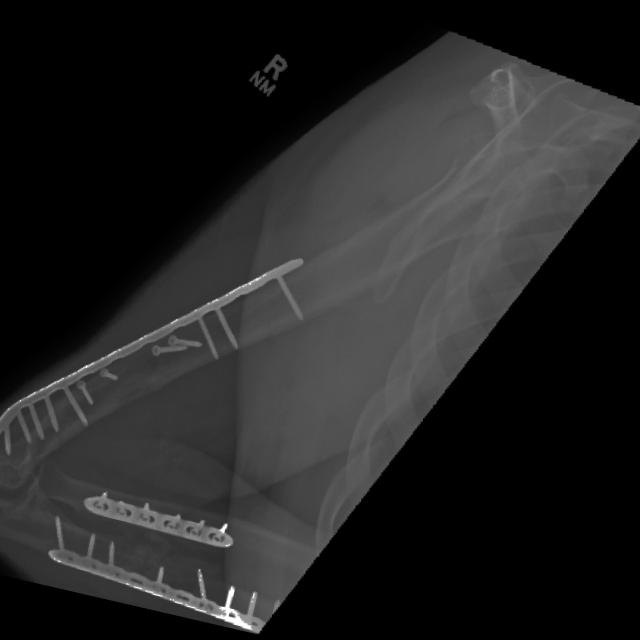humerus fracture: (15, 351, 157, 471)
